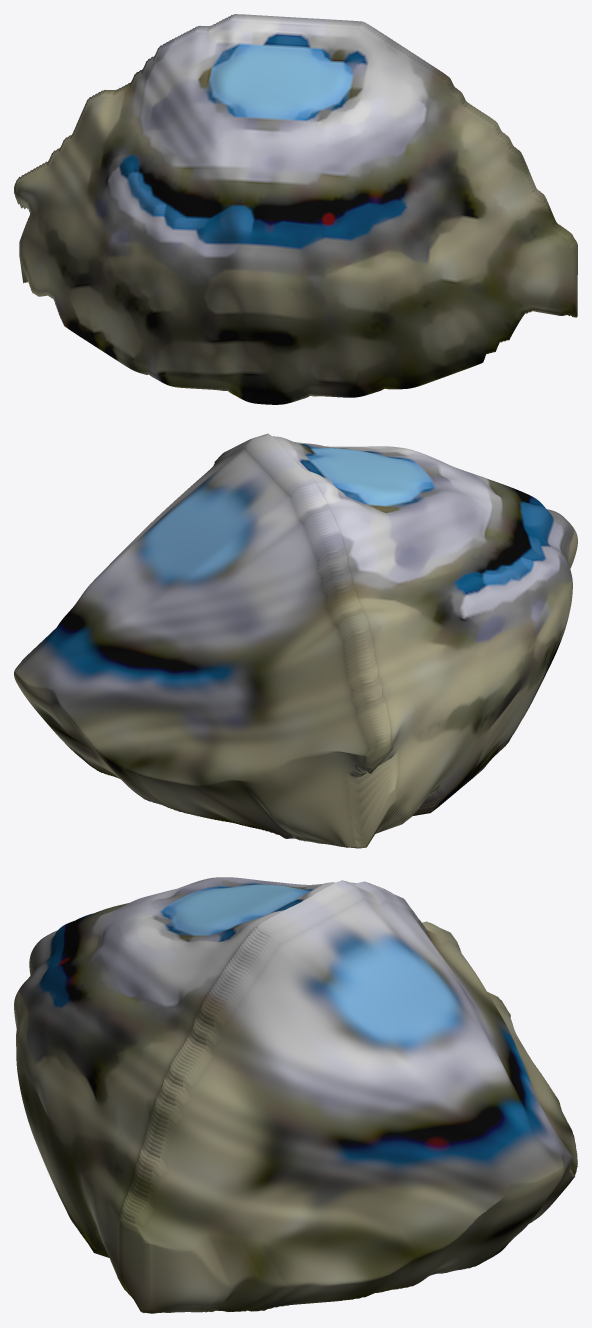
Rendered from allied_pillbox.glb.
The picture shows the model from 3 angles, top to bottom: view 1: azimuth 30°, elevation 25°; view 2: azimuth 150°, elevation 25°; view 3: azimuth 270°, elevation 25°; orthographic projection. The views are drawn at different scales.
Visible parts, largest first — view 1: allied_pillbox; view 2: allied_pillbox; view 3: allied_pillbox.
Part boxes in pixels (x1=…): allied_pillbox: x1=14, y1=14, x2=577, y2=404; allied_pillbox: x1=14, y1=433, x2=577, y2=848; allied_pillbox: x1=14, y1=877, x2=577, y2=1313.
Size of the model in its own units: 1.97 by 1.25 by 2.09.
